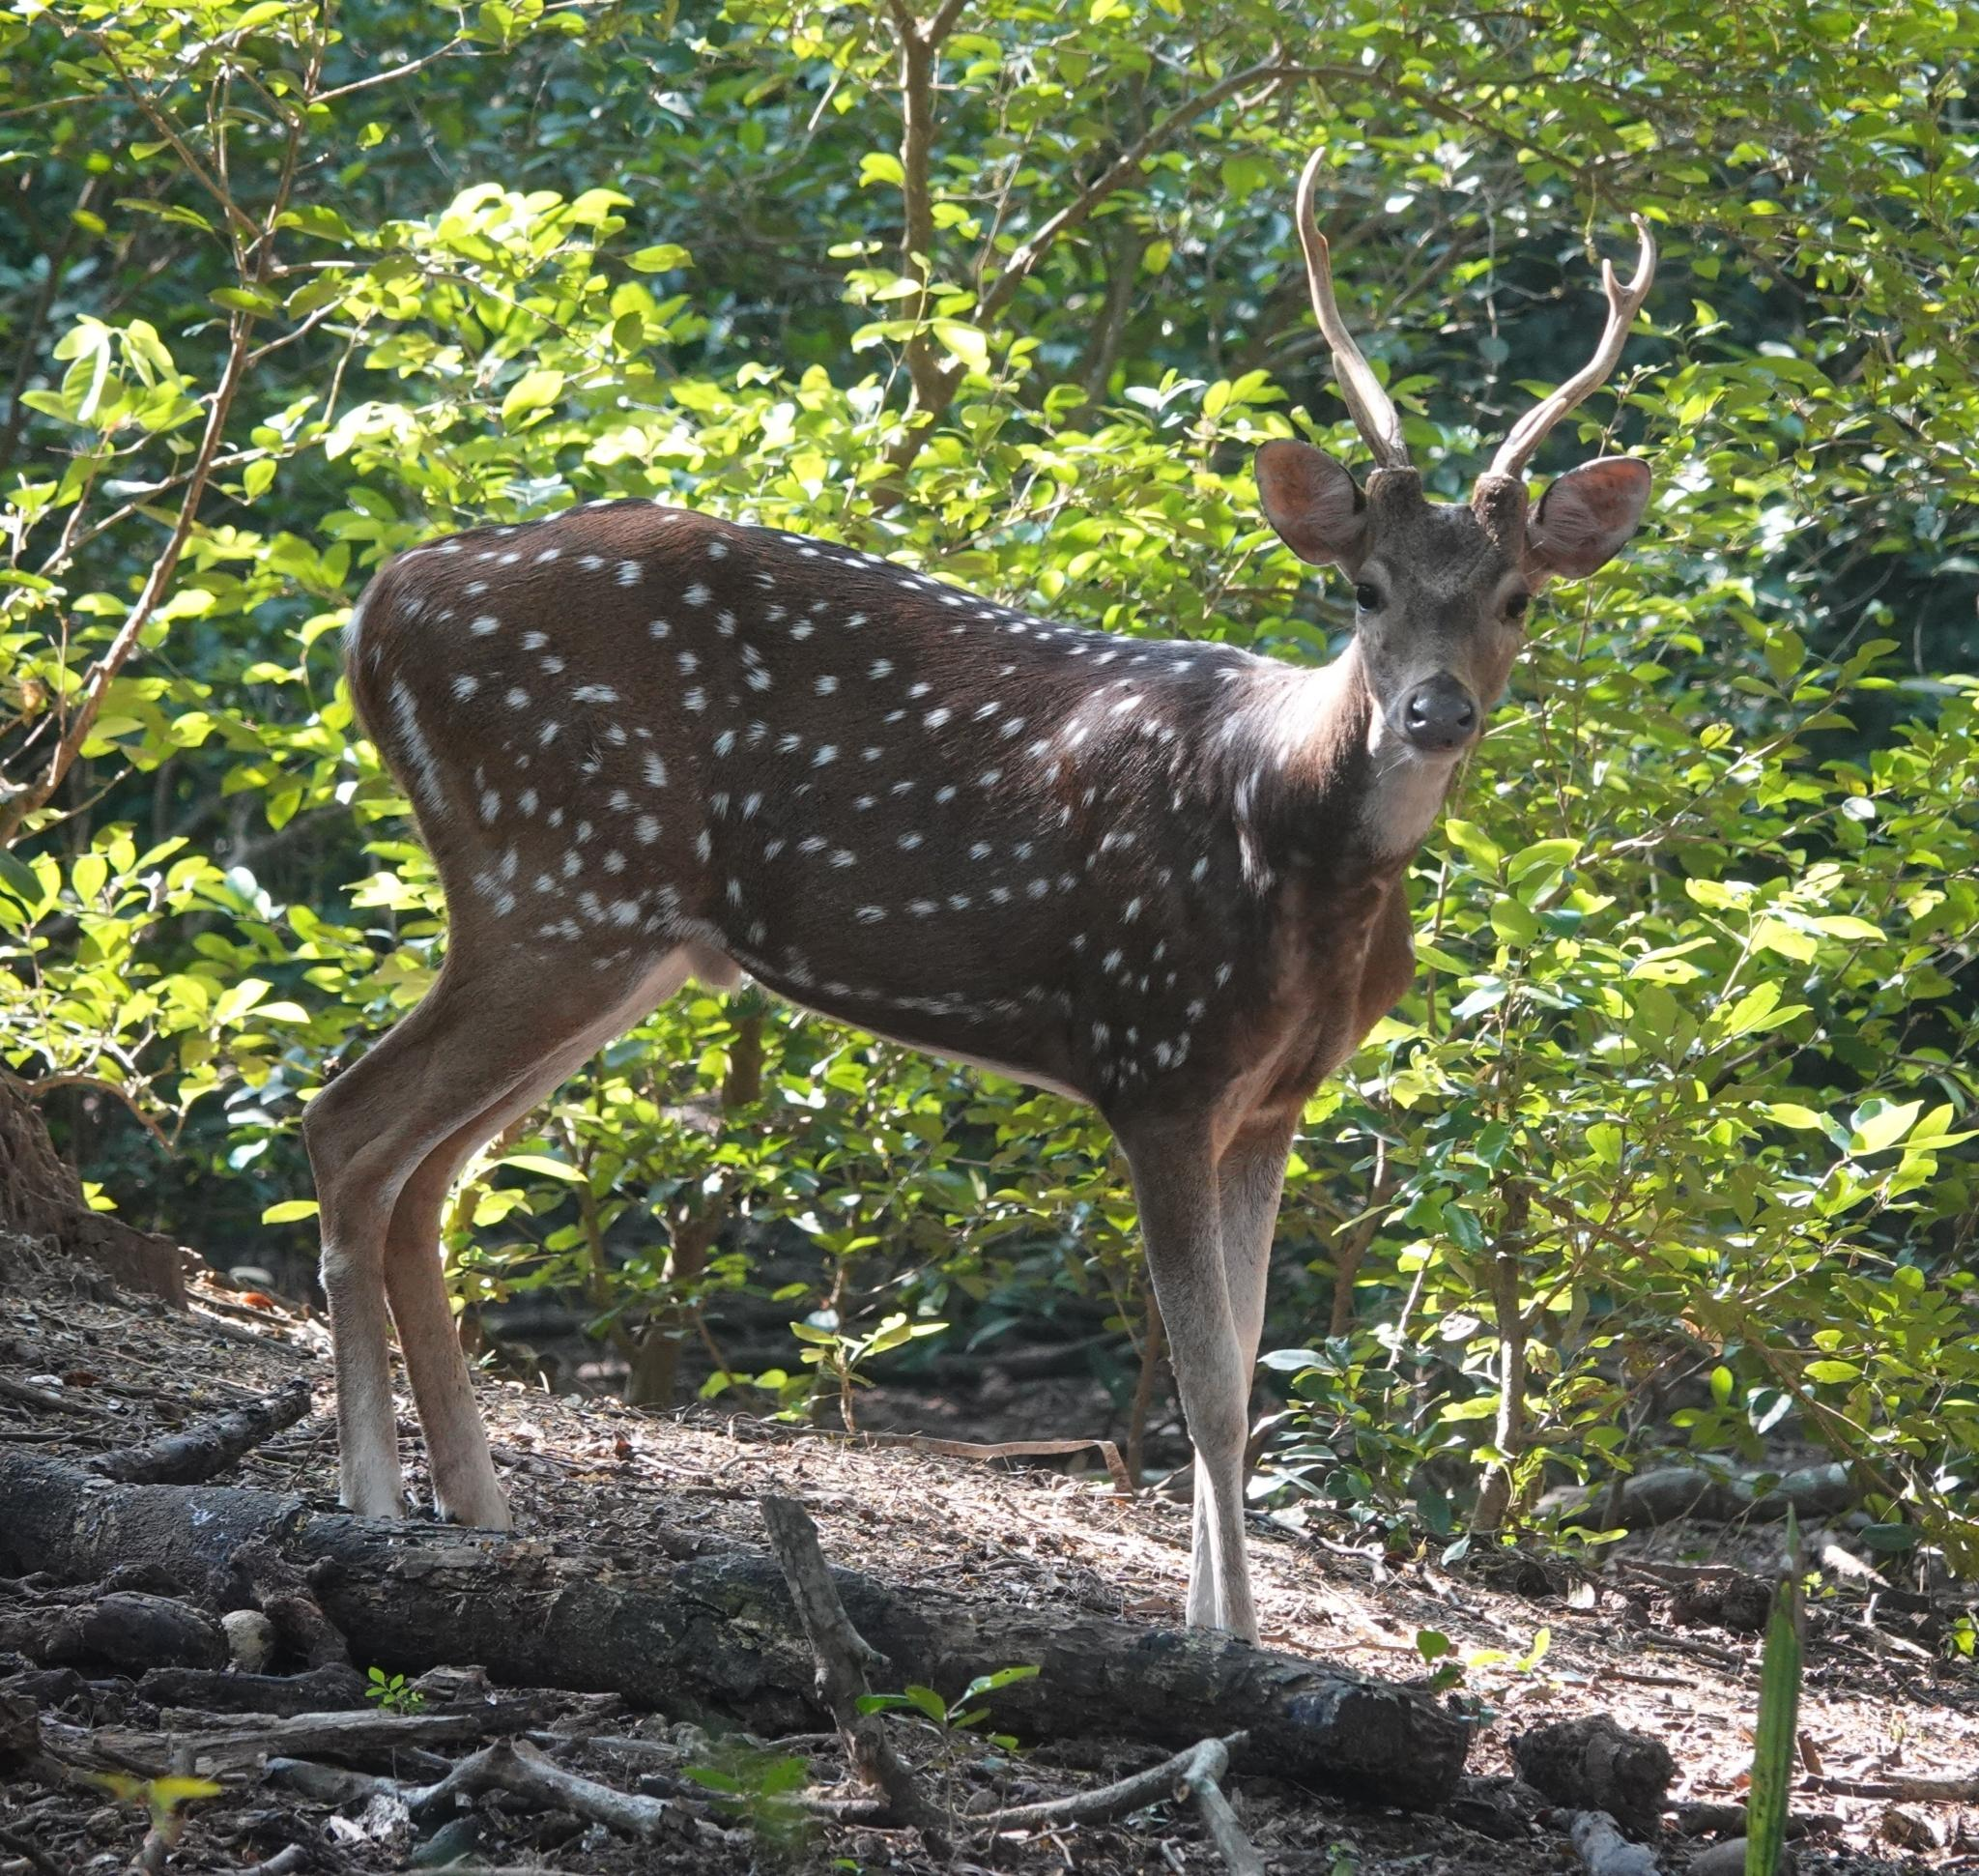Deer: (305, 150, 1655, 1636)
